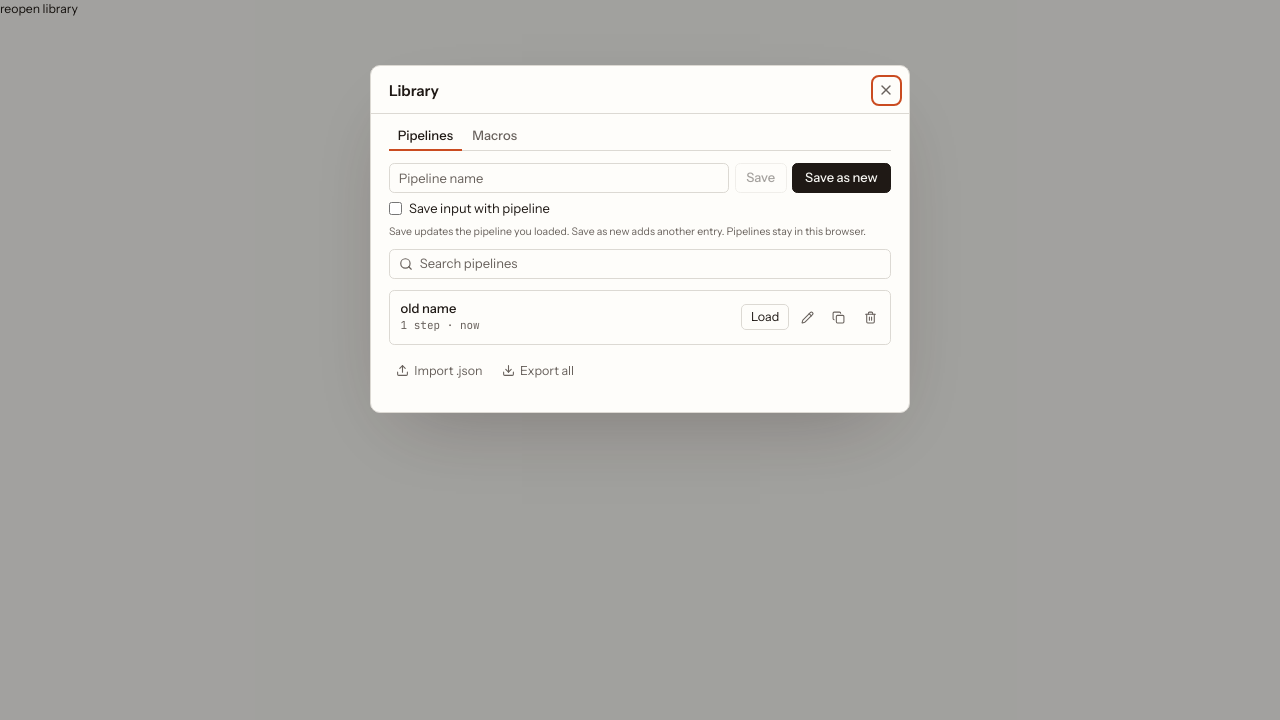
it: LibraryDialog › renames an entry inline
The width and height of the screenshot is (1280, 720).
Click the button named "rename old name" at (808, 317), box [794,304,820,330]
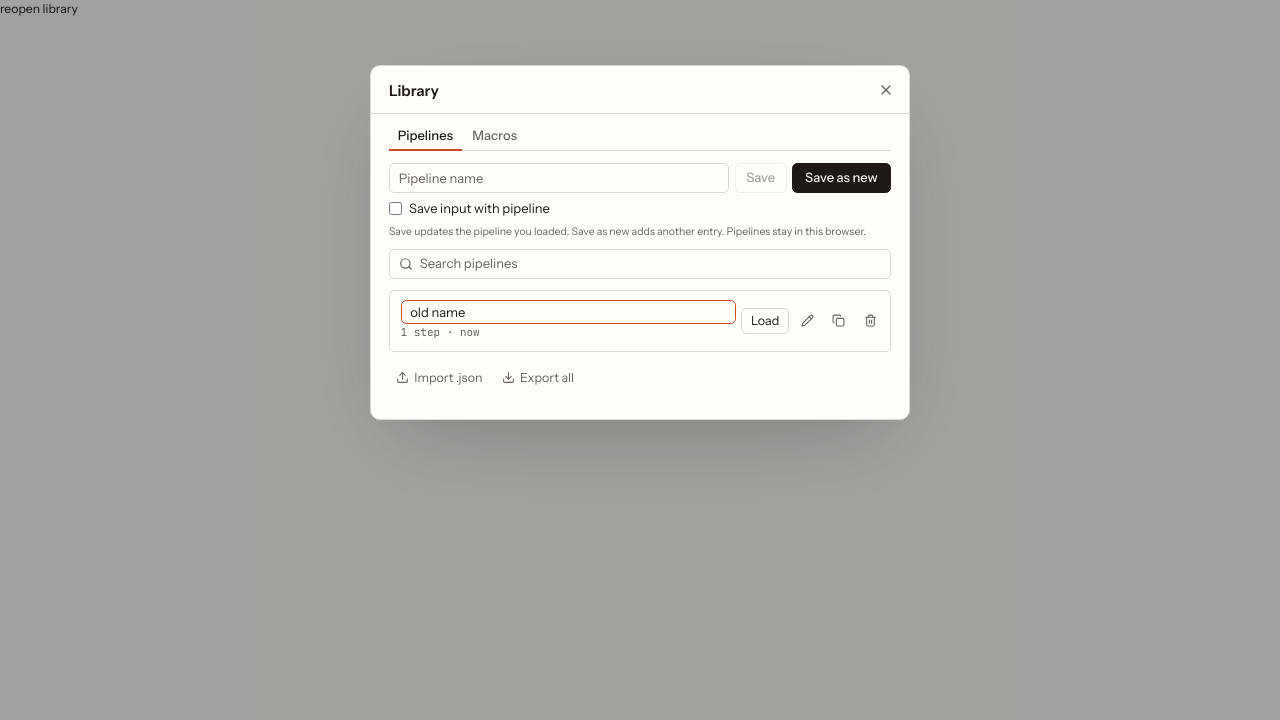
Replace the text in the field named "rename old name" with "new name" at (568, 312), box [400,300,736,324]
Then press Enter
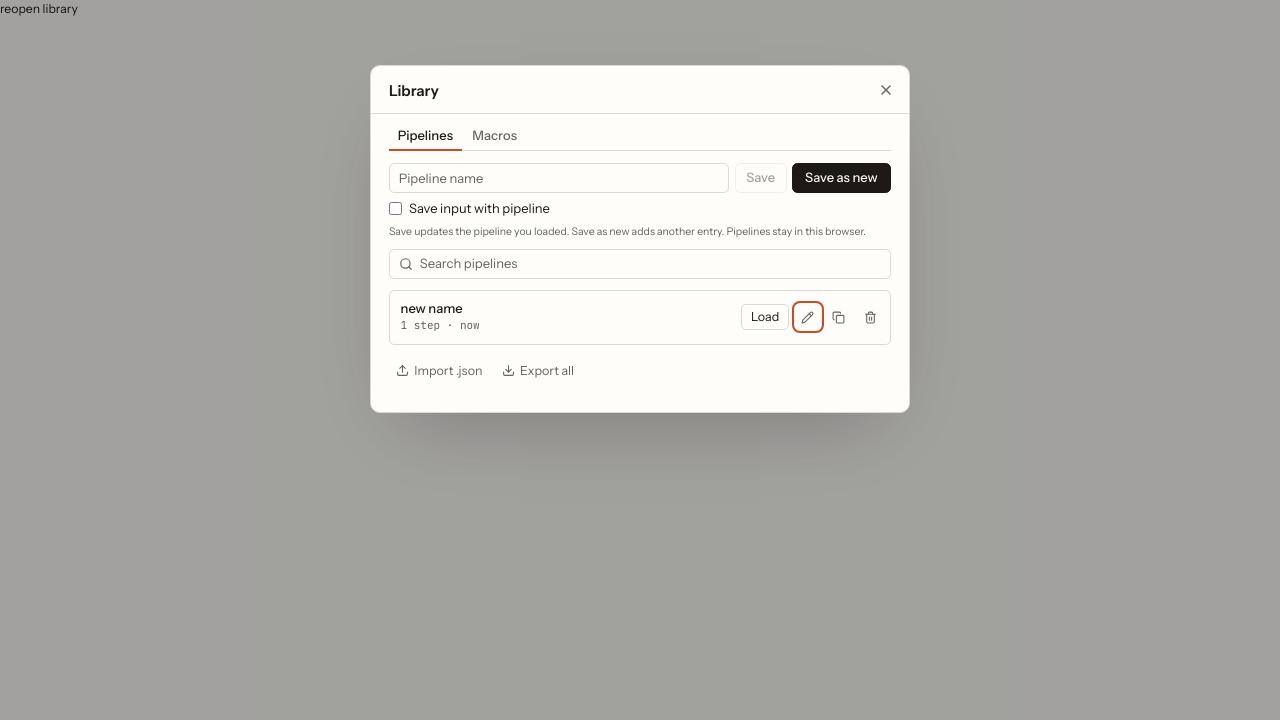
Expected: the text "new name" is shown, [400,300,463,316]
